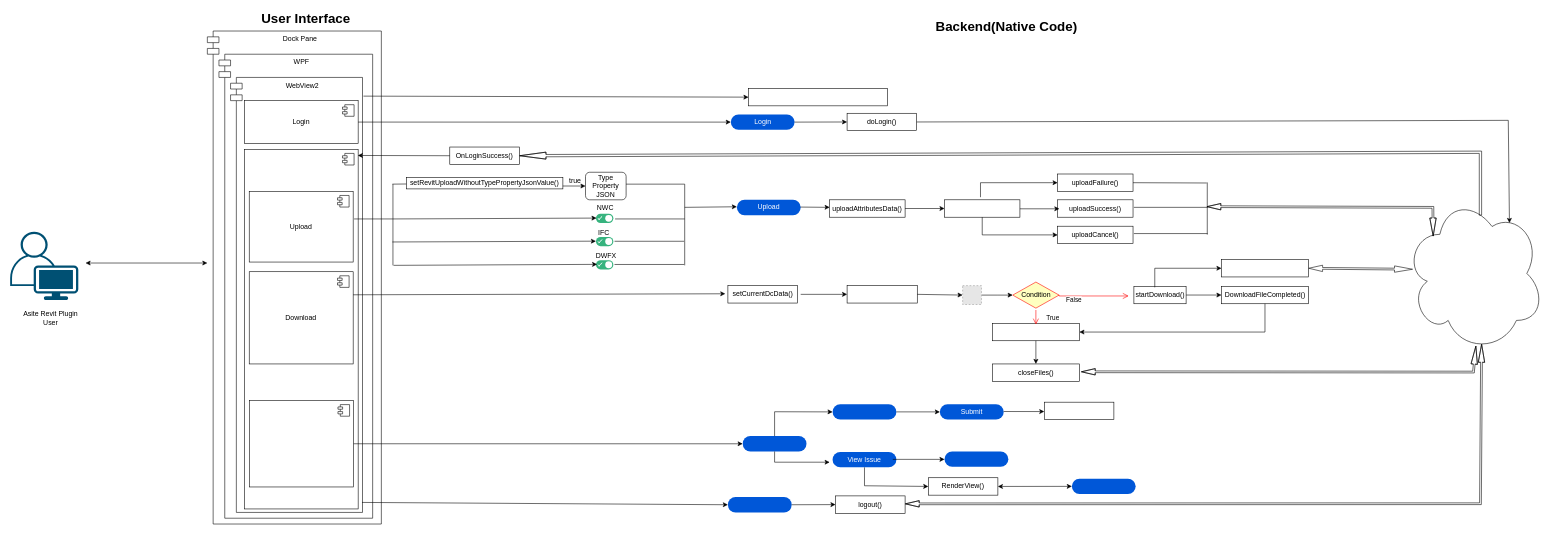
Image size: 1554x534. Some labels were removed from this diagram. Grey dashed boxes stand in for pictures. Each missing label, with the box of its shape:
Asite CDE: (1404, 195, 1544, 352)
CaptureView(): (1044, 402, 1114, 420)
CoreWebView2InitializationCompleted(): (748, 88, 888, 106)
Create Comment: (944, 451, 1008, 467)
Create Issue: (832, 404, 896, 419)
Edit Issue: (1072, 478, 1135, 494)
getDownloadStatus(): (847, 285, 917, 303)
Go to issues: (742, 436, 806, 451)
Issue Manager: (249, 400, 354, 487)
Logout: (728, 497, 791, 512)
openFiles(): (992, 323, 1079, 341)
stopDownload(): (1221, 259, 1308, 277)
uploadFiles(): (944, 199, 1020, 217)
